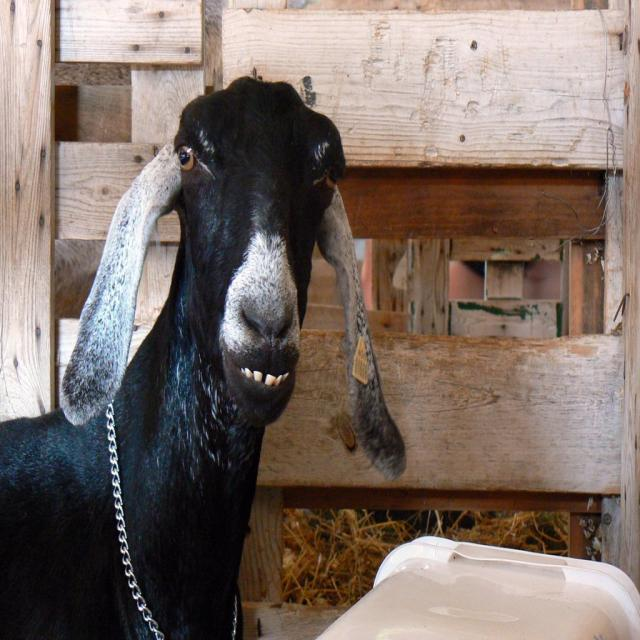Goat: (0, 76, 407, 640)
